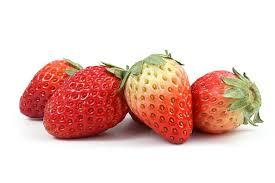straw-ripe: (43, 65, 128, 138), (191, 70, 254, 133), (20, 59, 83, 118)
straw-unripe: (126, 54, 192, 144)
